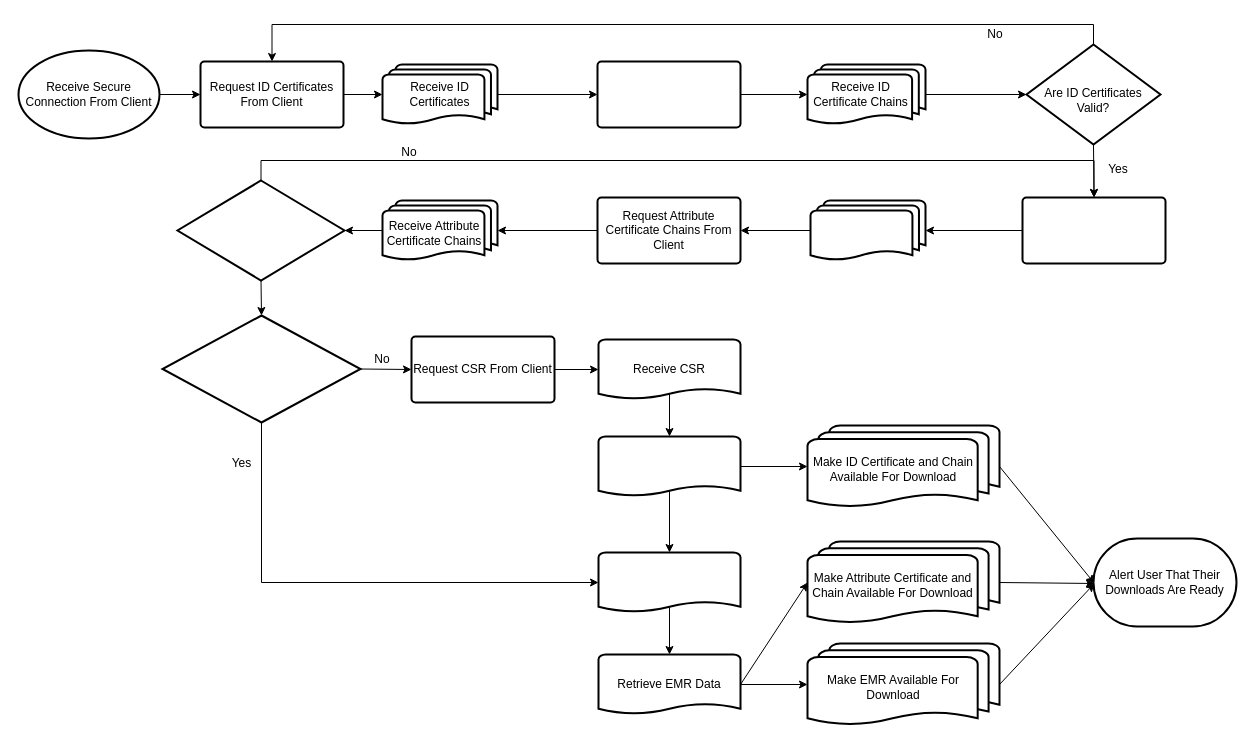
This 1254x744 diagram has some shape labels left out. Each missing label, with the centre of its shape:
"Are Attribute Certificates Valid?" belongs at (x=260, y=230).
"Does the User Have an ID Certificate for This System?" belongs at (x=261, y=368).
"Generate Attribute Certificate For This Request" belongs at (x=669, y=582).
"Generate ID Certificate From CSR" belongs at (x=669, y=466).
"Receive Attribute Certificates" belongs at (x=867, y=230).
"Request Attribute Certificates From Client" belongs at (x=1093, y=230).
"Request ID Certificate Chains From Client" belongs at (x=668, y=94).
